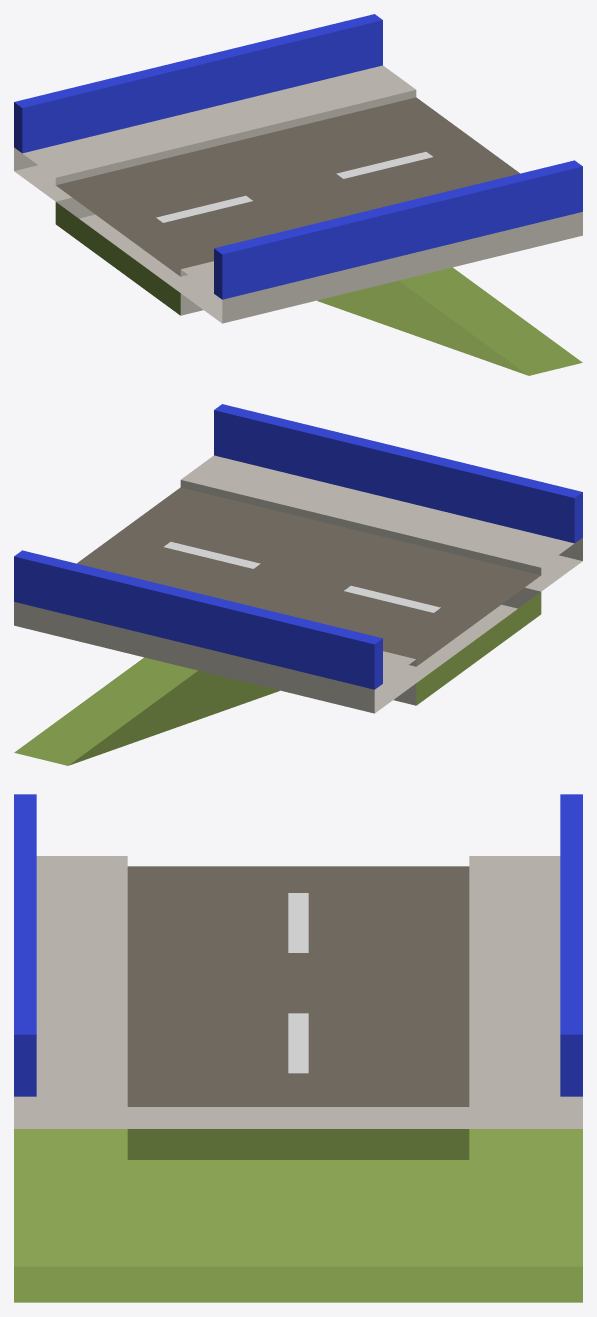
Rendered from bridge-tile_01.fbx.
The picture shows the model from 3 angles, top to bottom: view 1: azimuth 30°, elevation 25°; view 2: azimuth 150°, elevation 25°; view 3: azimuth 270°, elevation 25°; orthographic projection. The views are drawn at different scales.
Visible parts, largest first — view 1: bridge_01; view 2: bridge_01; view 3: bridge_01.
Boxes of the visible parts, <box> form: bridge_01: <box>14,14,582,375</box>; bridge_01: <box>14,404,582,765</box>; bridge_01: <box>14,794,582,1302</box>.
Bounding box in the file's own units: 1000 × 520 × 1000.
